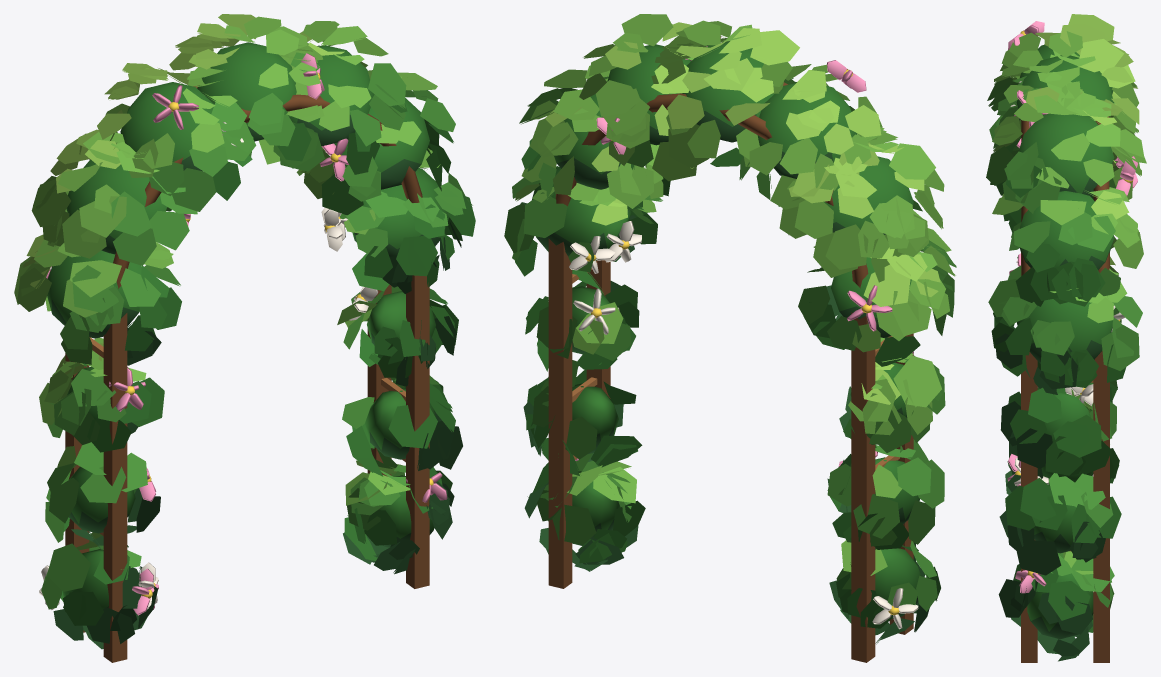
File: GardenArch.glb
The picture shows the model from 3 angles, left to right: view 1: azimuth 30°, elevation 25°; view 2: azimuth 150°, elevation 25°; view 3: azimuth 270°, elevation 25°; orthographic projection. The views are drawn at different scales.
Parts seen in each view (by area): view 1: Body; view 2: Body; view 3: Body.
Part boxes in pixels (x1,y1,x2,y2): Body: (14, 14, 475, 662); Body: (504, 14, 956, 662); Body: (986, 14, 1146, 662).
Size of the model in its own units: 4.63 by 5.91 by 1.56.
1 material, 1 textured.
